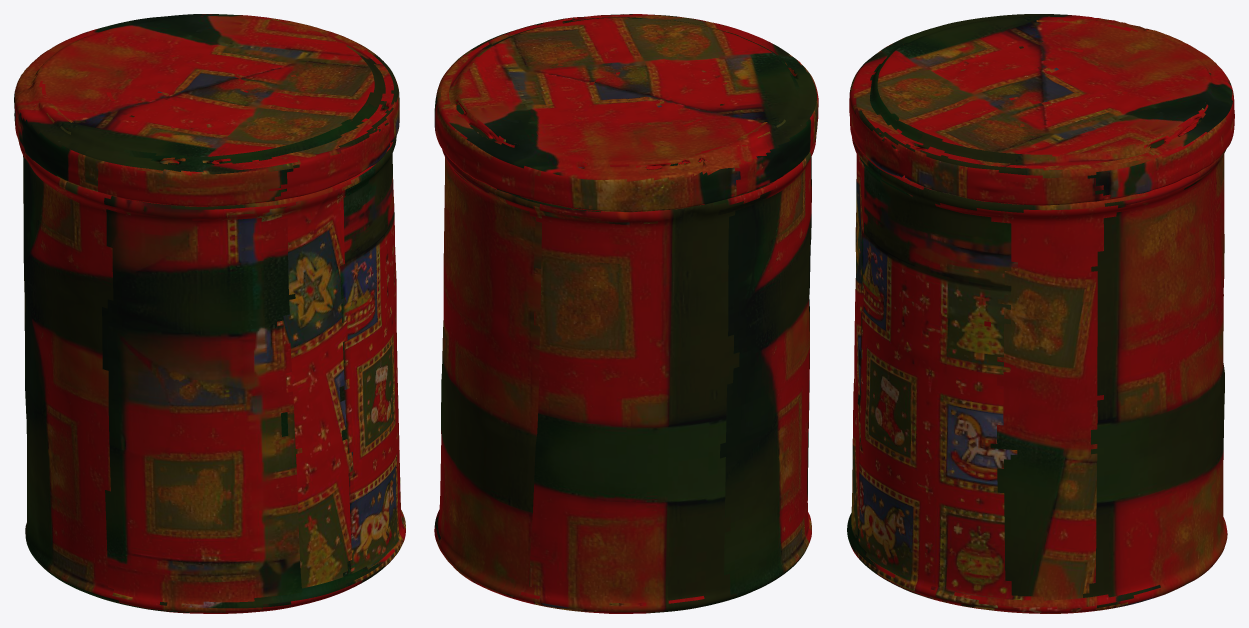
File: CafeSelloRojo.fbx
The picture shows the model from 3 angles, left to right: view 1: azimuth 30°, elevation 25°; view 2: azimuth 150°, elevation 25°; view 3: azimuth 270°, elevation 25°; orthographic projection.
Visible parts, largest first — view 1: tripo_node_45f9b053; view 2: tripo_node_45f9b053; view 3: tripo_node_45f9b053.
Part boxes in pixels (x1,y1,x2,y2): tripo_node_45f9b053: (14,14,405,613); tripo_node_45f9b053: (434,14,818,613); tripo_node_45f9b053: (847,14,1234,613).
Bounding box in the file's own units: 0.7642 × 0.9997 × 0.7651.
